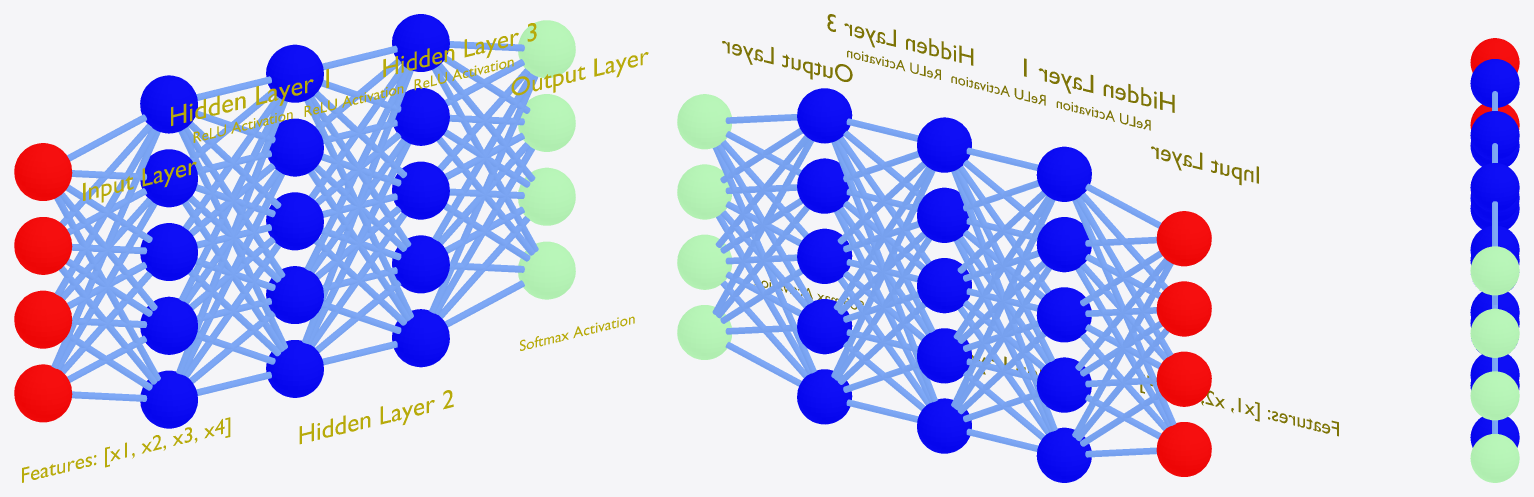
The picture shows the model from 3 angles, left to right: view 1: azimuth 30°, elevation 25°; view 2: azimuth 150°, elevation 25°; view 3: azimuth 270°, elevation 25°; orthographic projection. The views are drawn at different scales.
Parts seen in each view (by area): view 1: Neuron_-5_3, Neuron_-5_1, Neuron_-5_2, Neuron_-5_0, Neuron_-2.5_2, Neuron_5_3, Neuron_2.5_2, Neuron_0_2, Neuron_5_2, Neuron_-2.5_4, Neuron_5_1, Neuron_-2.5_1 (+65 smaller); view 2: Neuron_-5_2, Neuron_-5_1, Neuron_-5_3, Neuron_-5_0, Neuron_-2.5_4, Neuron_0_4, Neuron_2.5_4, Neuron_5_3, Neuron_-2.5_3, Neuron_-2.5_2, Neuron_2.5_2, Neuron_5_2 (+56 smaller); view 3: Neuron_5_3, Neuron_5_1, Neuron_5_2, Neuron_5_0, Neuron_2.5_4, Neuron_0_4, Neuron_-2.5_4, Neuron_-5_3, Neuron_2.5_3, Neuron_2.5_0, Neuron_2.5_2, Neuron_2.5_1 (+5 smaller).
Part boxes in pixels (x1,y1,x2,y2): Neuron_-5_3: [14, 143, 72, 200]; Neuron_-5_1: [14, 290, 72, 348]; Neuron_-5_2: [14, 217, 72, 274]; Neuron_-5_0: [14, 364, 72, 422]; Neuron_-2.5_2: [140, 223, 197, 280]; Neuron_5_3: [518, 20, 575, 77]; Neuron_2.5_2: [392, 161, 449, 219]; Neuron_0_2: [266, 192, 323, 250]; Neuron_5_2: [518, 94, 575, 151]; Neuron_-2.5_4: [140, 75, 197, 133]; Neuron_5_1: [518, 167, 575, 225]; Neuron_-2.5_1: [140, 296, 197, 354]; Neuron_-5_2: [1156, 281, 1211, 336]; Neuron_-5_1: [1156, 351, 1211, 406]; Neuron_-5_3: [1156, 211, 1211, 266]; Neuron_-5_0: [1156, 422, 1211, 476]; Neuron_-2.5_4: [1036, 146, 1091, 201]; Neuron_0_4: [917, 117, 971, 172]; Neuron_2.5_4: [797, 88, 852, 143]; Neuron_5_3: [677, 94, 731, 149]; Neuron_-2.5_3: [1036, 217, 1091, 272]; Neuron_-2.5_2: [1036, 287, 1091, 342]; Neuron_2.5_2: [797, 228, 852, 283]; Neuron_5_2: [677, 164, 731, 219]; Neuron_5_3: [1470, 246, 1519, 295]; Neuron_5_1: [1470, 371, 1519, 420]; Neuron_5_2: [1470, 308, 1519, 357]; Neuron_5_0: [1470, 434, 1519, 482]; Neuron_2.5_4: [1470, 163, 1519, 211]; Neuron_0_4: [1470, 111, 1519, 159]; Neuron_-2.5_4: [1470, 59, 1519, 107]; Neuron_-5_3: [1470, 38, 1519, 72]; Neuron_2.5_3: [1470, 225, 1519, 259]; Neuron_2.5_0: [1470, 417, 1519, 447]; Neuron_2.5_2: [1470, 292, 1519, 322]; Neuron_2.5_1: [1470, 354, 1519, 384].
Size of the model in its own units: 12.66 by 7.13 by 3.09.
